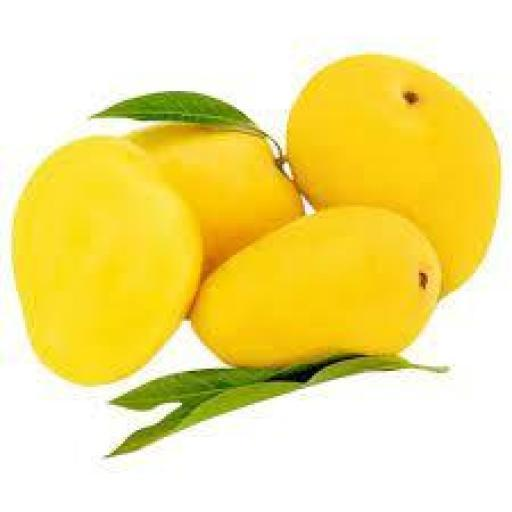mango: (287, 55, 500, 293), (14, 137, 202, 384), (192, 208, 441, 366)
